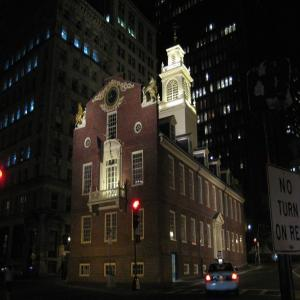Vehicle-registration-plate: (219, 275, 228, 283)
